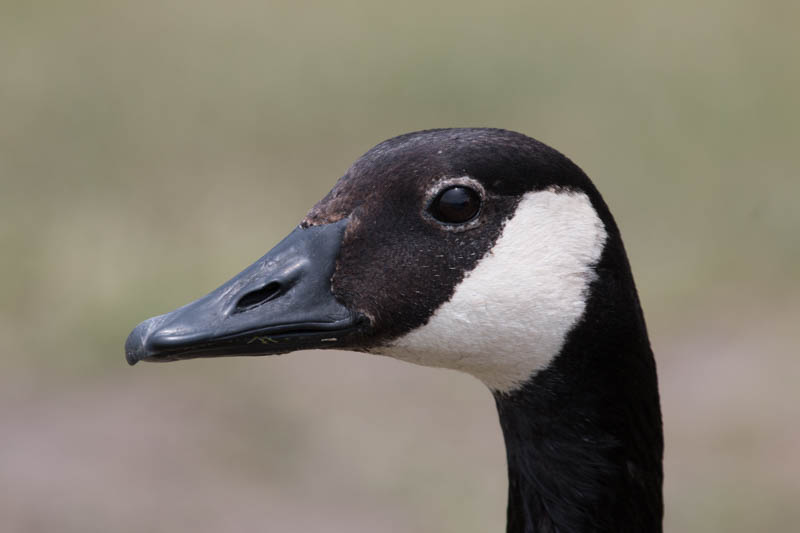goose-head: (126, 127, 658, 393)
